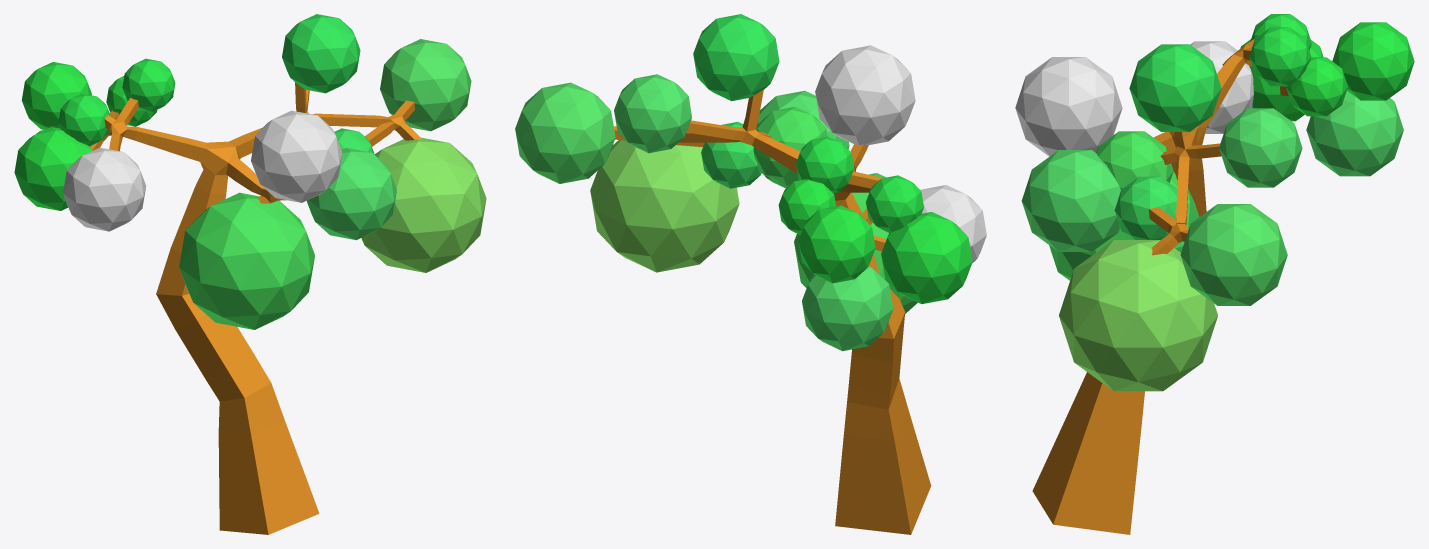
The model's file is LowPolyOak3.fbx.
3 renders of one model, left to right at view 1: azimuth 30°, elevation 25°; view 2: azimuth 150°, elevation 25°; view 3: azimuth 270°, elevation 25°, orthographic. The views are drawn at different scales.
Visible parts, largest first — view 1: stem, Icosphere.009, Icosphere.011, Icosphere.017, Icosphere.013, Icosphere.015, Icosphere.007, Icosphere.019, Icosphere.002, Icosphere.006, Icosphere.003, Icosphere.004 (+2 smaller); view 2: stem, Icosphere.011, Icosphere.013, Icosphere.017, Icosphere.002, Icosphere.019, Icosphere, Icosphere.022, Icosphere.006, Icosphere.023, Icosphere.004, Icosphere.003 (+5 smaller); view 3: Icosphere.011, stem, Icosphere.013, Icosphere.017, Icosphere.015, Icosphere.019, Icosphere, Icosphere.022, Icosphere.006, Icosphere.024, Icosphere.023, Icosphere.003 (+5 smaller).
Boxes of the visible parts, box(x1,y1,x2,y2) form: stem: box(90, 82, 422, 534); Icosphere.009: box(179, 192, 314, 329); Icosphere.011: box(361, 137, 486, 272); Icosphere.017: box(251, 110, 342, 202); Icosphere.013: box(380, 39, 471, 131); Icosphere.015: box(306, 147, 396, 240); Icosphere.007: box(63, 147, 146, 231); Icosphere.019: box(282, 14, 360, 93); Icosphere.002: box(14, 127, 92, 210); Icosphere.006: box(21, 62, 91, 129); Icosphere.003: box(122, 58, 175, 112); Icosphere.004: box(58, 93, 110, 146); stem: box(613, 89, 931, 534); Icosphere.011: box(590, 140, 739, 272); Icosphere.013: box(515, 82, 615, 183); Icosphere.017: box(815, 45, 915, 144); Icosphere.002: box(881, 212, 972, 303); Icosphere.019: box(693, 14, 779, 101); Icosphere: box(802, 266, 893, 351); Icosphere.022: box(614, 74, 691, 153); Icosphere.006: box(798, 205, 875, 283); Icosphere.023: box(753, 107, 827, 185); Icosphere.004: box(866, 175, 923, 233); Icosphere.003: box(796, 136, 854, 193); Icosphere.011: box(1059, 240, 1217, 391); stem: box(1032, 39, 1288, 534); Icosphere.013: box(1180, 204, 1287, 305); Icosphere.017: box(1015, 57, 1122, 156); Icosphere.015: box(1021, 150, 1120, 251); Icosphere.019: box(1129, 44, 1221, 131); Icosphere: box(1306, 91, 1403, 176); Icosphere.022: box(1219, 108, 1302, 187); Icosphere.006: box(1332, 22, 1414, 100); Icosphere.024: box(1114, 176, 1177, 239); Icosphere.023: box(1096, 131, 1173, 189); Icosphere.003: box(1249, 27, 1311, 86).
Bounding box in the file's own units: 221 × 230 × 158.
